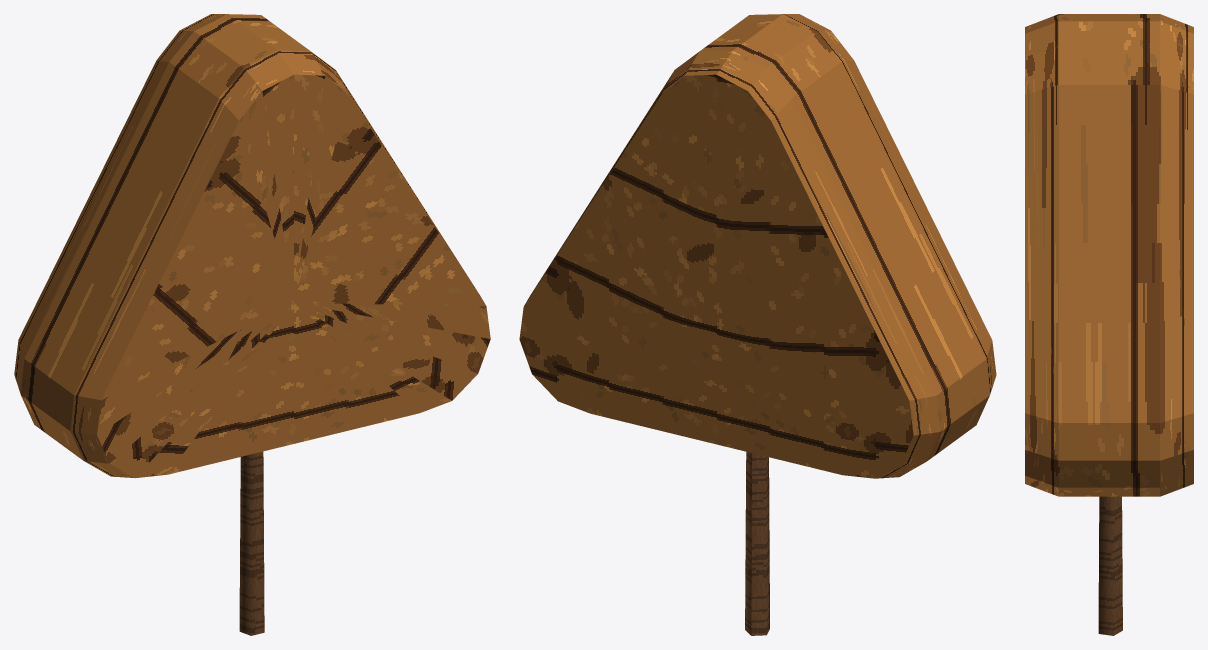
Rendered from item_yaki_onigiri.glb.
3 views of the same model, side by side, from view 1: azimuth 30°, elevation 25°; view 2: azimuth 150°, elevation 25°; view 3: azimuth 270°, elevation 25° (orthographic).
Parts seen in each view (by area): view 1: item_yaki_onigiri; view 2: item_yaki_onigiri; view 3: item_yaki_onigiri.
Boxes of the visible parts, x1=… form: item_yaki_onigiri: x1=14, y1=14, x2=490, y2=635; item_yaki_onigiri: x1=519, y1=14, x2=996, y2=635; item_yaki_onigiri: x1=1025, y1=14, x2=1193, y2=635.
Size of the model in its own units: 0.1442 by 0.1992 by 0.05.
2 materials, 2 textured.
